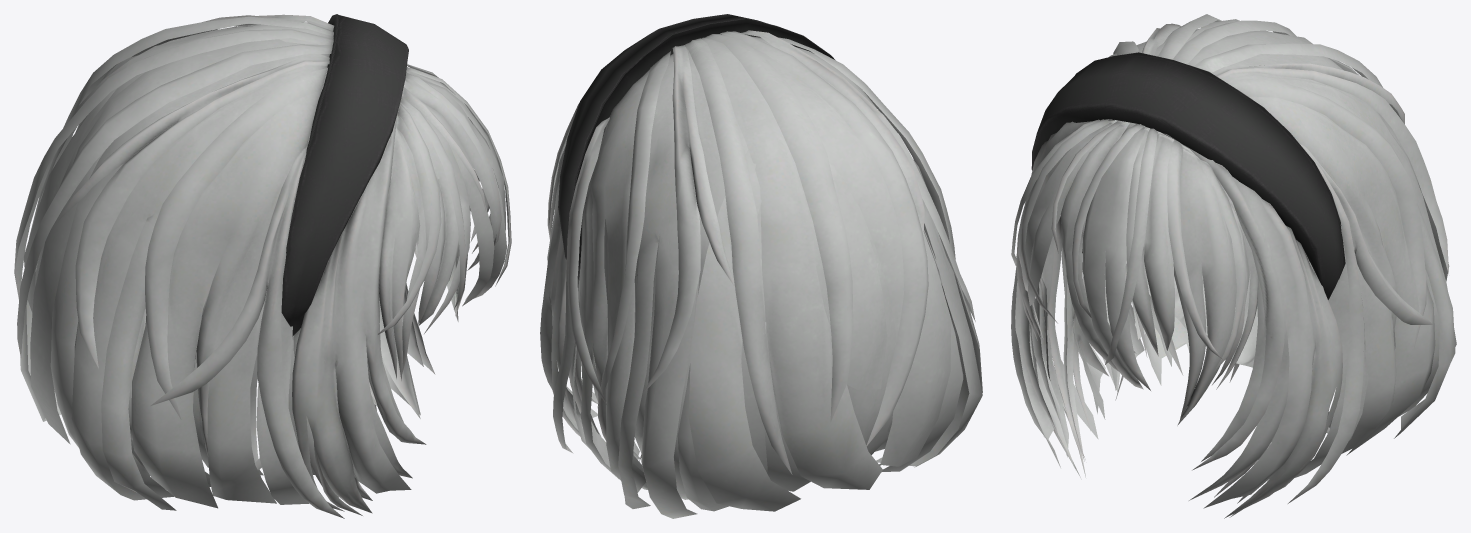
The model's file is hair_m1.glb.
The picture shows the model from 3 angles, left to right: view 1: azimuth 30°, elevation 25°; view 2: azimuth 150°, elevation 25°; view 3: azimuth 270°, elevation 25°; orthographic projection. The views are drawn at different scales.
Parts seen in each view (by area): view 1: HairModel; view 2: HairModel; view 3: HairModel.
Boxes of the visible parts, x1=… form: HairModel: x1=14, y1=14, x2=511, y2=518; HairModel: x1=540, y1=14, x2=982, y2=518; HairModel: x1=1011, y1=14, x2=1456, y2=518.
Bounding box in the file's own units: 0.4063 × 0.4107 × 0.3865.
Materials: 1 (1 with a texture image).
